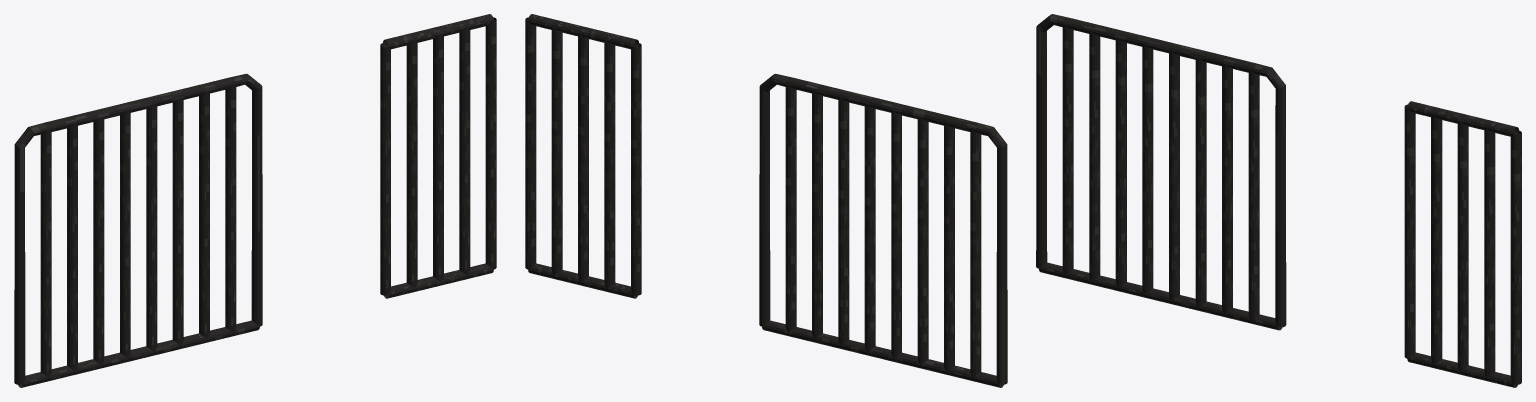
The model's file is iornbars.glb.
3 renders of one model, left to right at view 1: azimuth 30°, elevation 25°; view 2: azimuth 150°, elevation 25°; view 3: azimuth 330°, elevation 25°, orthographic.
Parts seen in each view (by area): view 1: Plane.001, Plane.003, Plane, Plane.002; view 2: Plane.001, Plane.003, Plane, Plane.002; view 3: Plane.001, Plane.003, Plane, Plane.002.
Part boxes in pixels (x1,y1,x2,y2): Plane.001: (40, 85, 236, 377); Plane.003: (380, 14, 496, 298); Plane: (14, 73, 262, 384); Plane.002: (18, 320, 259, 387); Plane.001: (785, 85, 981, 377); Plane.003: (525, 14, 641, 298); Plane: (759, 73, 1007, 384); Plane.002: (762, 320, 1003, 387); Plane.001: (1062, 25, 1259, 320); Plane.003: (1404, 101, 1521, 387); Plane: (1036, 14, 1286, 327); Plane.002: (1039, 262, 1282, 330).
Bounding box in the file's own units: 16.2 × 8.32 × 0.32.
Materials: 4 (4 with a texture image).
